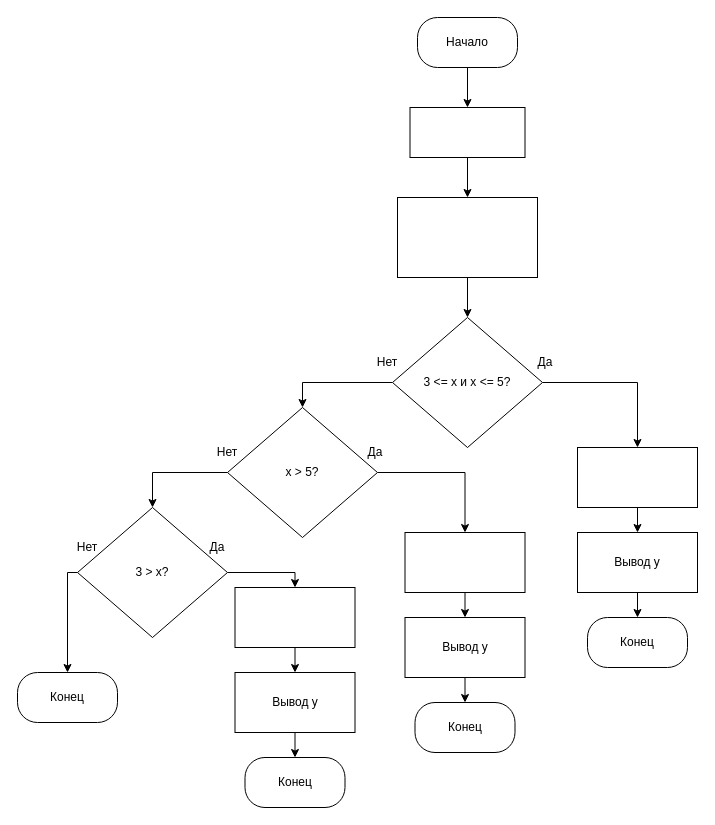
Some shapes in this 715 by 825 pixel diagram are drawn without their labels. The centre of each missing label's shape, as x and y in pixels:
"Ввод x" goes at point (467, 132).
"Присваиваем y = b * sin(a / x)" goes at point (464, 562).
"Присваиваем y = e**x + ln(|x|)" goes at point (294, 617).
"Присваиваем y = x + (cos(a*x) / x**2 + 1)" goes at point (637, 477).
"Присваиваем: а = 3,9 b = 1,68 e = 2.71828182846" goes at point (467, 237).
